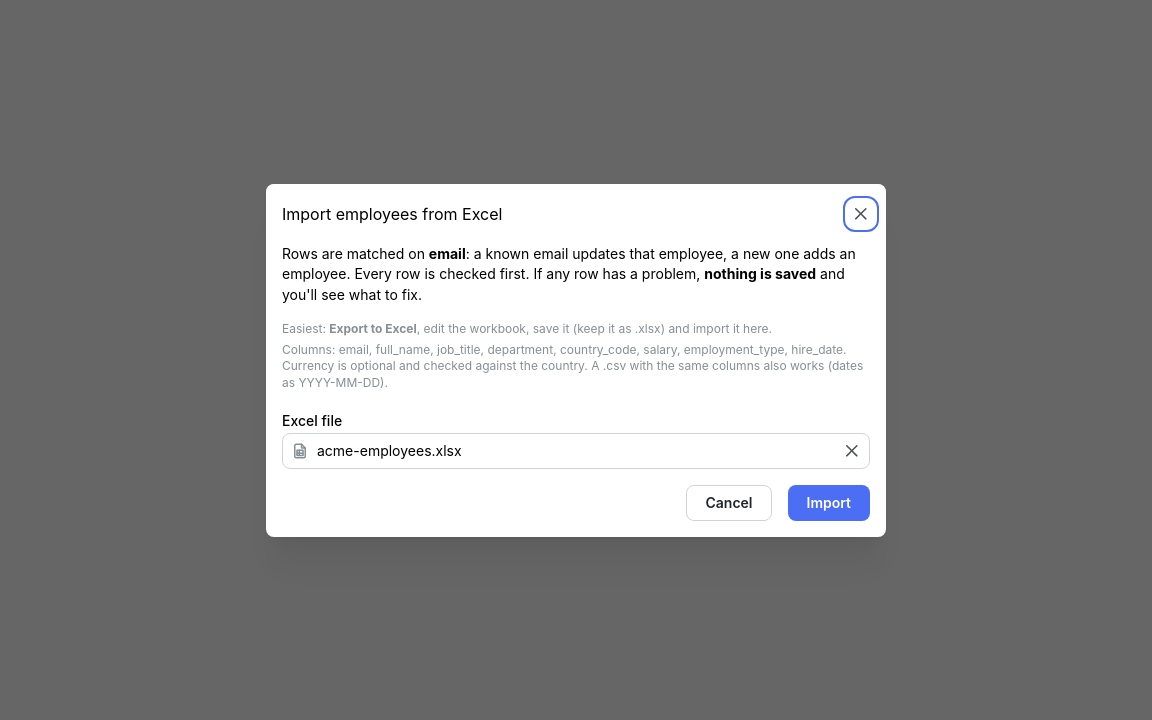
Test: ImportEmployeesModal › lists the rows to fix when the import is rejected
This screenshot has width=1152, height=720.
Earlier steps of the test are not shown.
Click the button "Import": point(829, 502) [788,484,870,520]
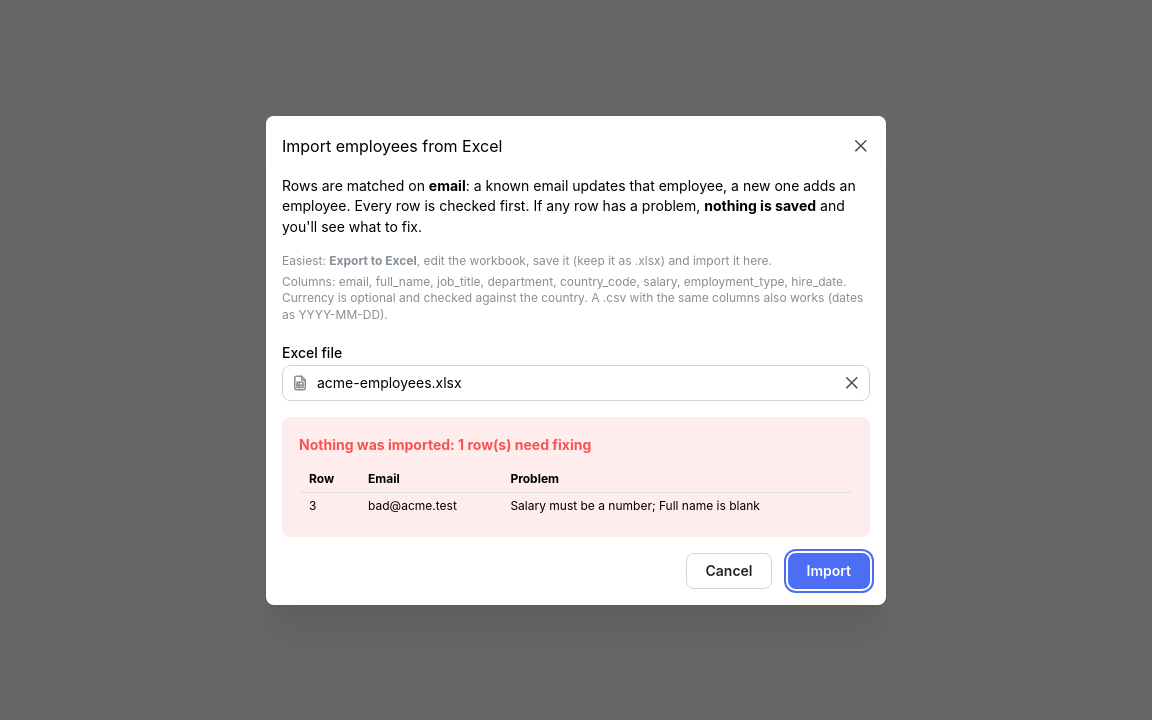
expect the text "Nothing was imported: 1 row(s) need fixing" is shown: met, box [299,434,591,455]
expect the row "3 bad@acme.test Salary must be a number; Full name is blank" is shown: met, box [299,492,853,519]
